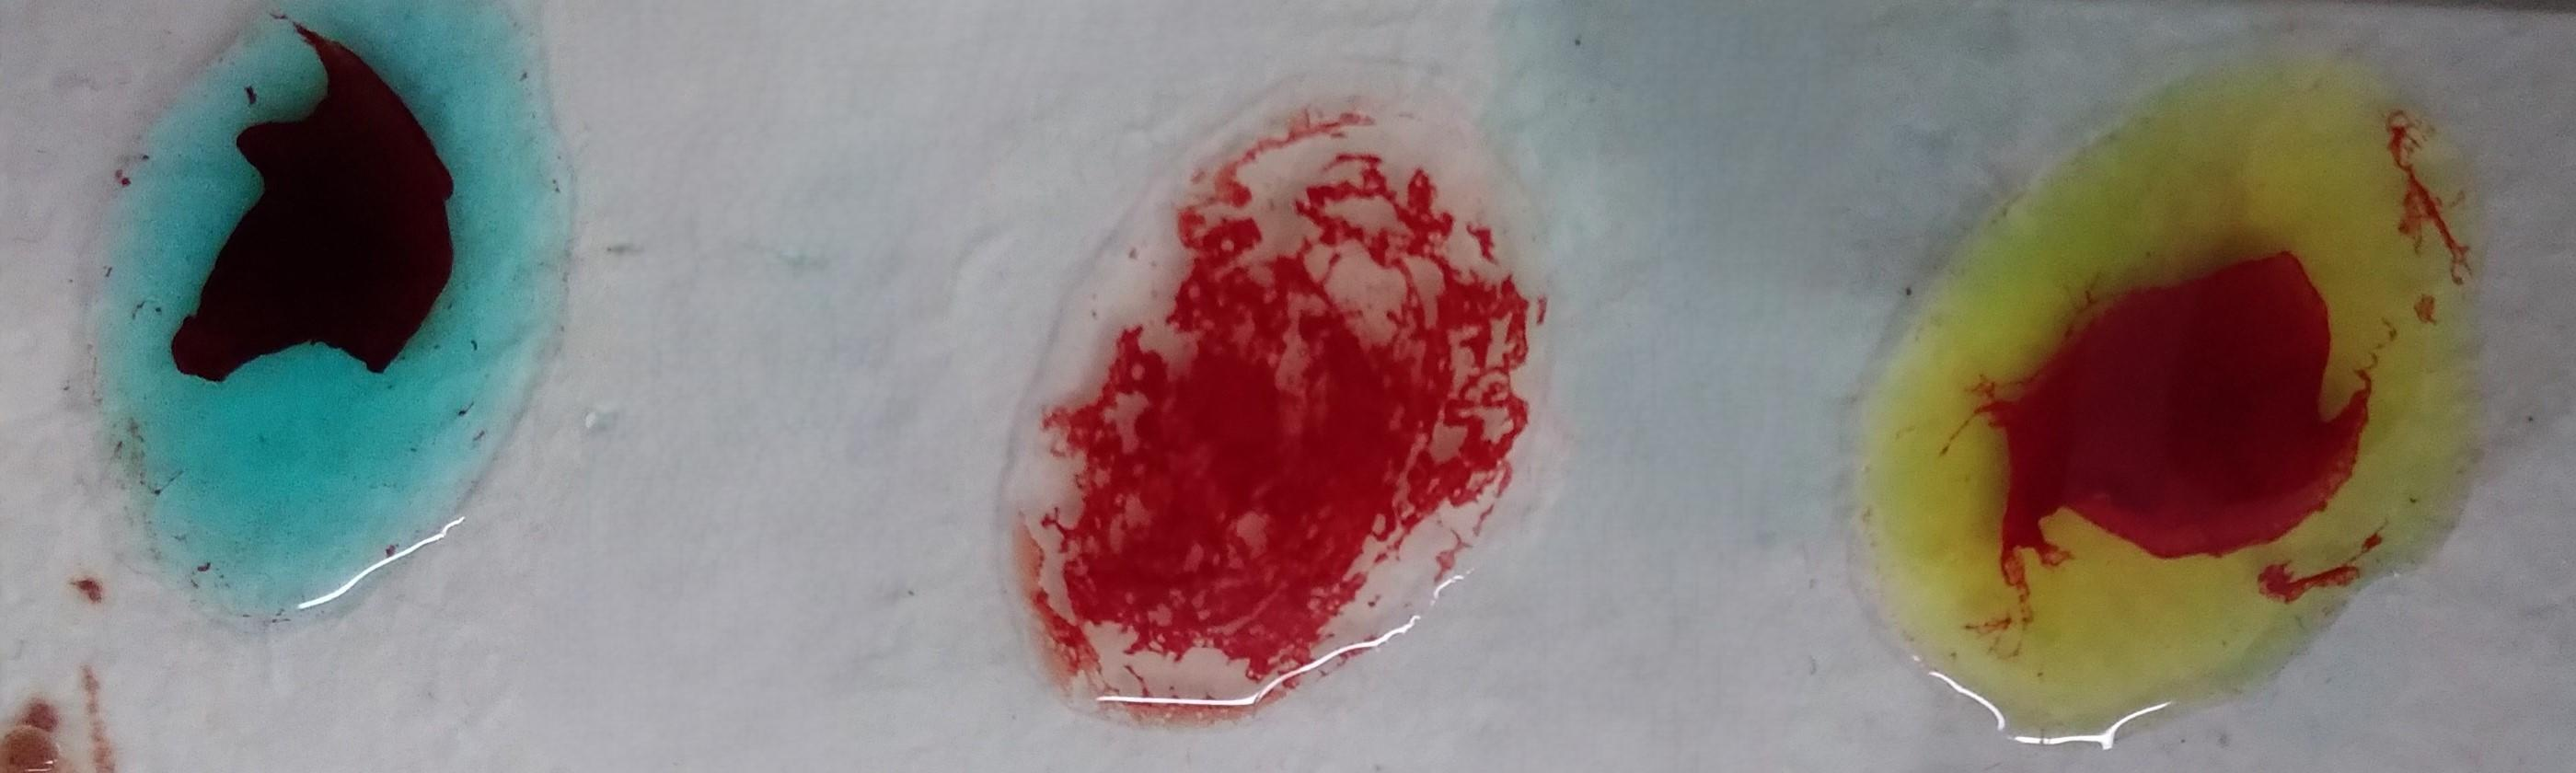A: (107, 3, 577, 611)
B: (1912, 49, 2481, 742)
D: (1005, 90, 1521, 724)
